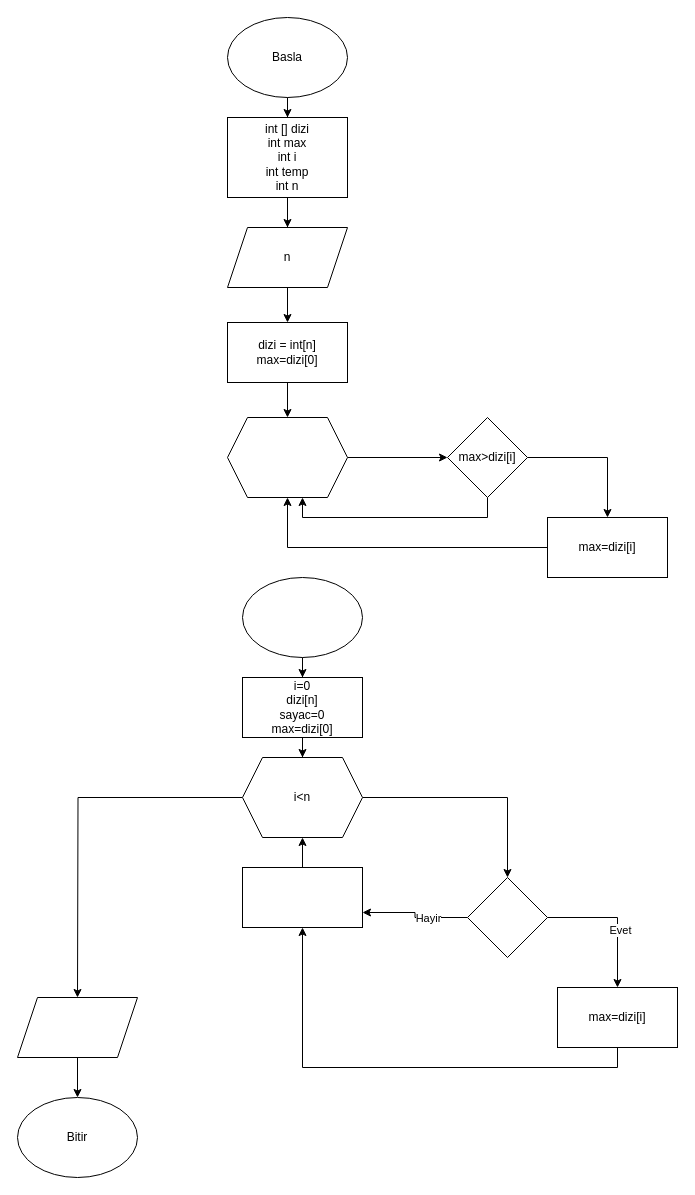
Image size: 695x1195. Some labels were removed from this diagram. Each missing label, with the box of its shape:
i=0,i<n,i++: (226, 416, 348, 498)
i=i+1: (242, 866, 362, 928)
max: (16, 996, 138, 1058)
max<=dizi[i]: (466, 876, 548, 958)
Start: (242, 576, 362, 658)
